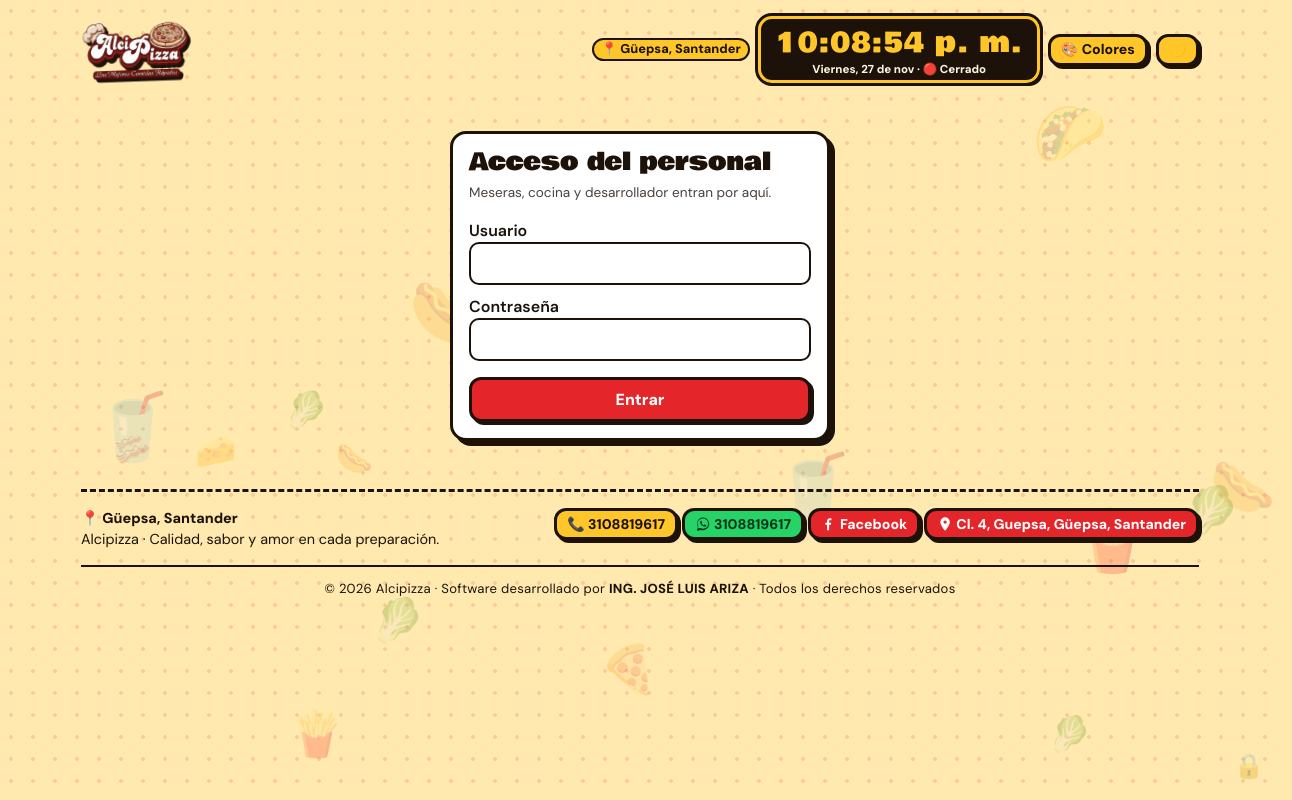
Test: LoginPage › muestra un aviso con role=alert: 423 sin mensaje
The image size is (1292, 800).
Type "ana" into the field labelled "Usuario" at [640, 264], box 469,242 -> 811,285
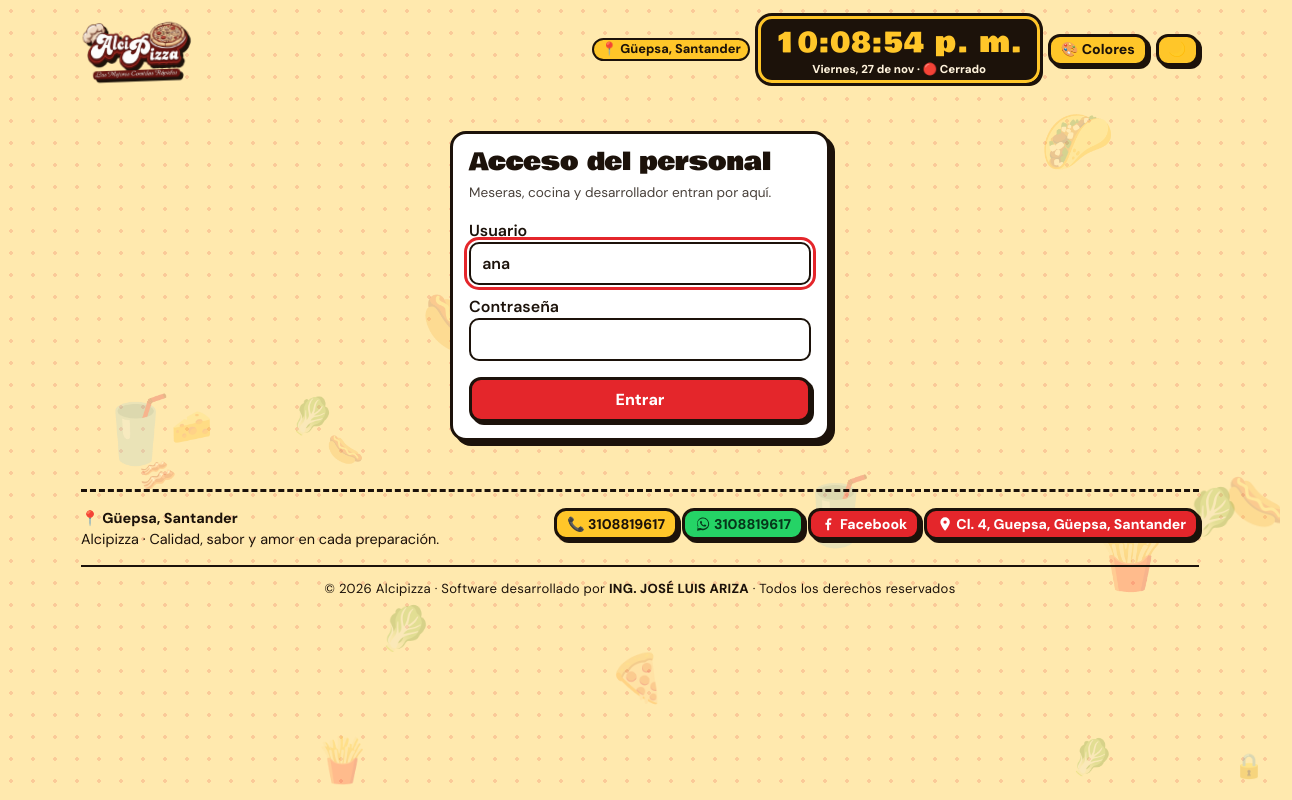
Type "mala" into the password field labelled "Contraseña" at [640, 340], box 469,318 -> 811,361
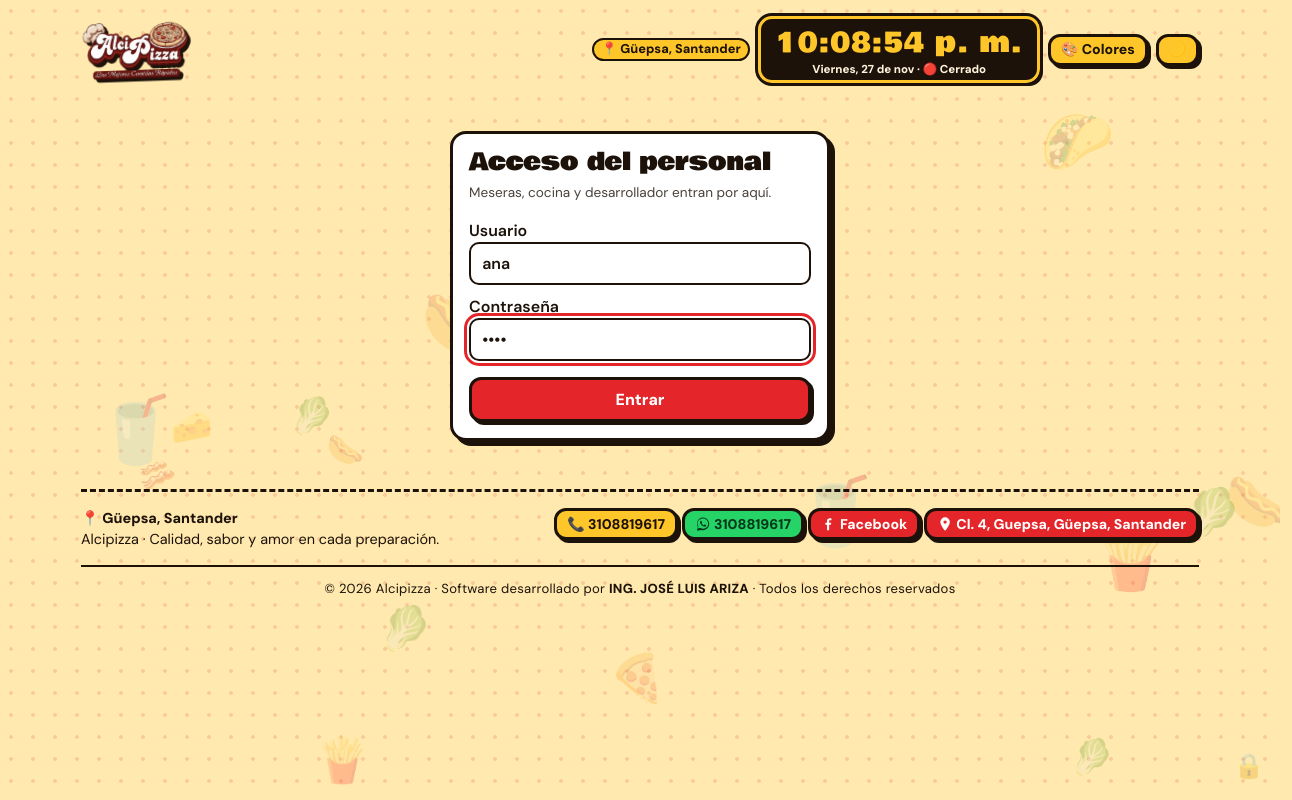
Press Enter
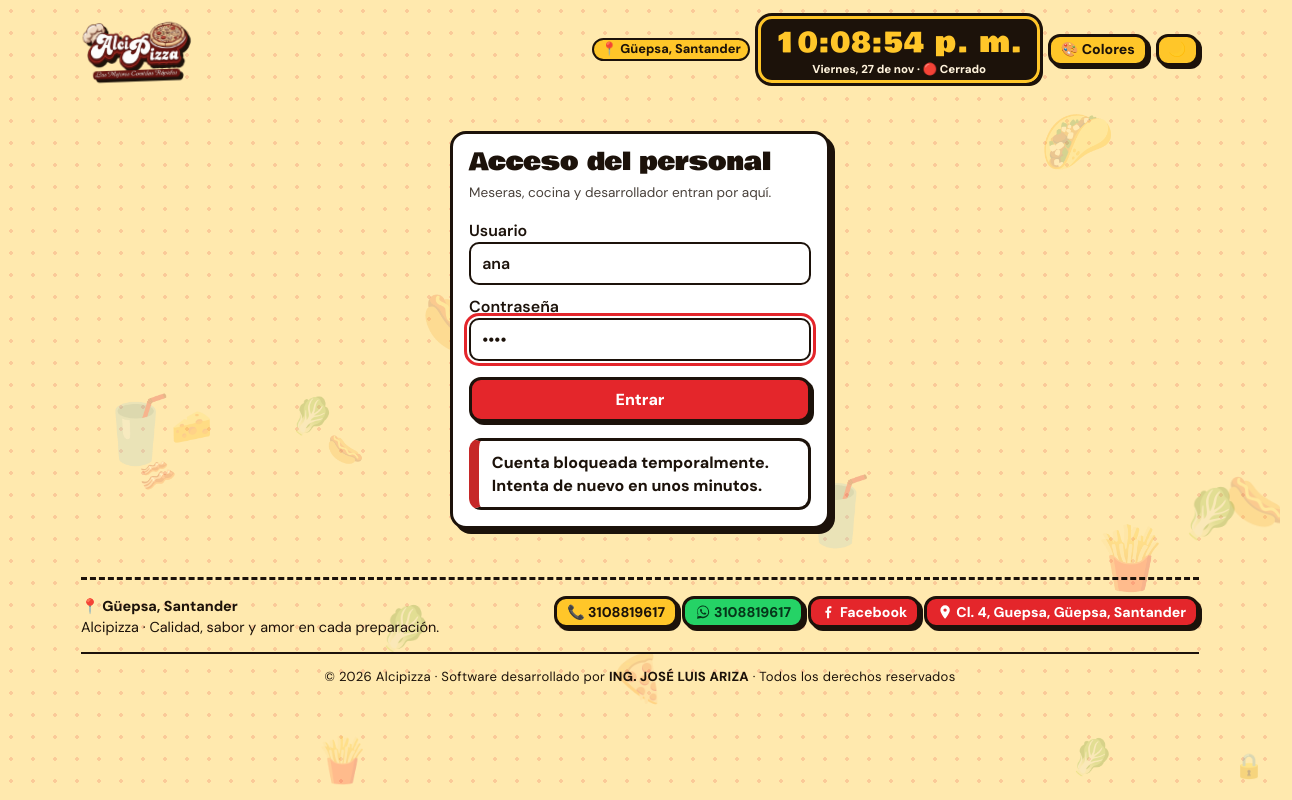
Expected: the message reads "Cuenta bloqueada temporalmente. Intenta de nuevo en unos minutos.", 492,452 -> 769,496
